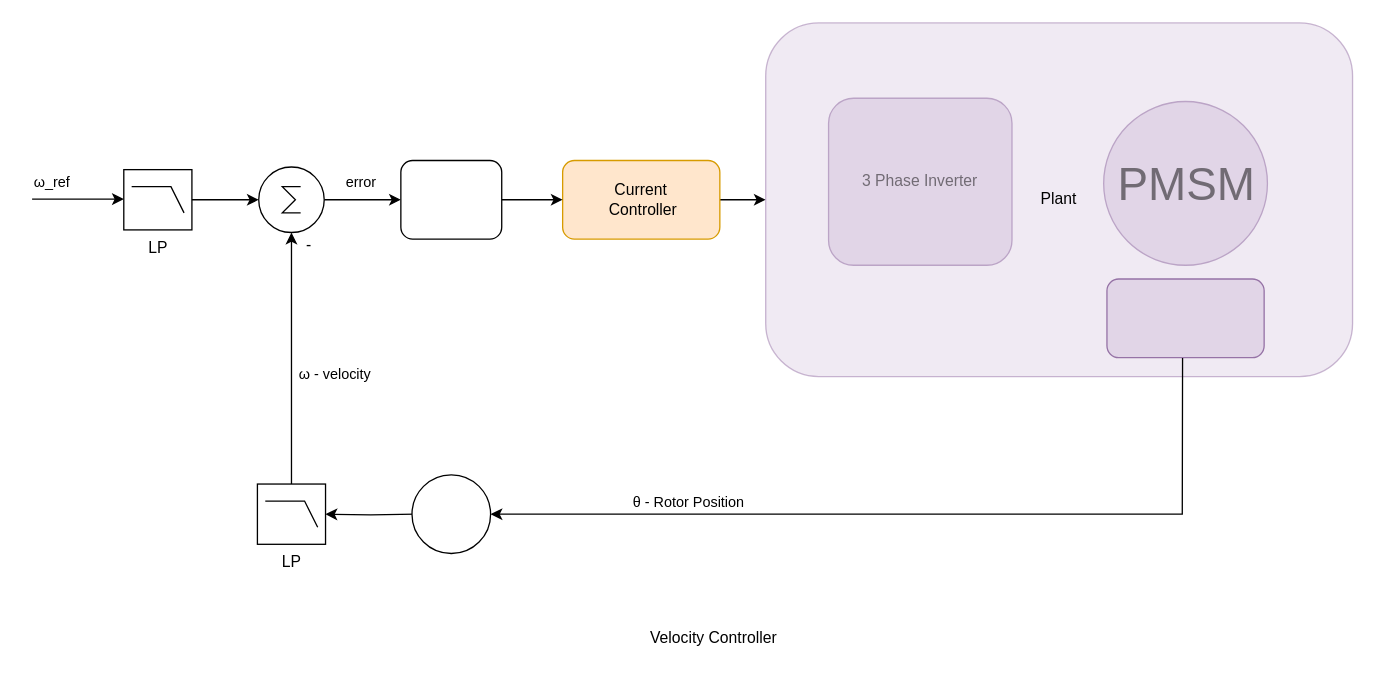
Some shapes in this 1376 by 681 pixel diagram are drawn without their labels. The shapes that lost their labels are listed below. From the top down, each one's centre as x and y in pixels, then its label:
At [451,199]: "PI".
At [1185,318]: "Position Sensor".
At [451,513]: "dr/dt".
